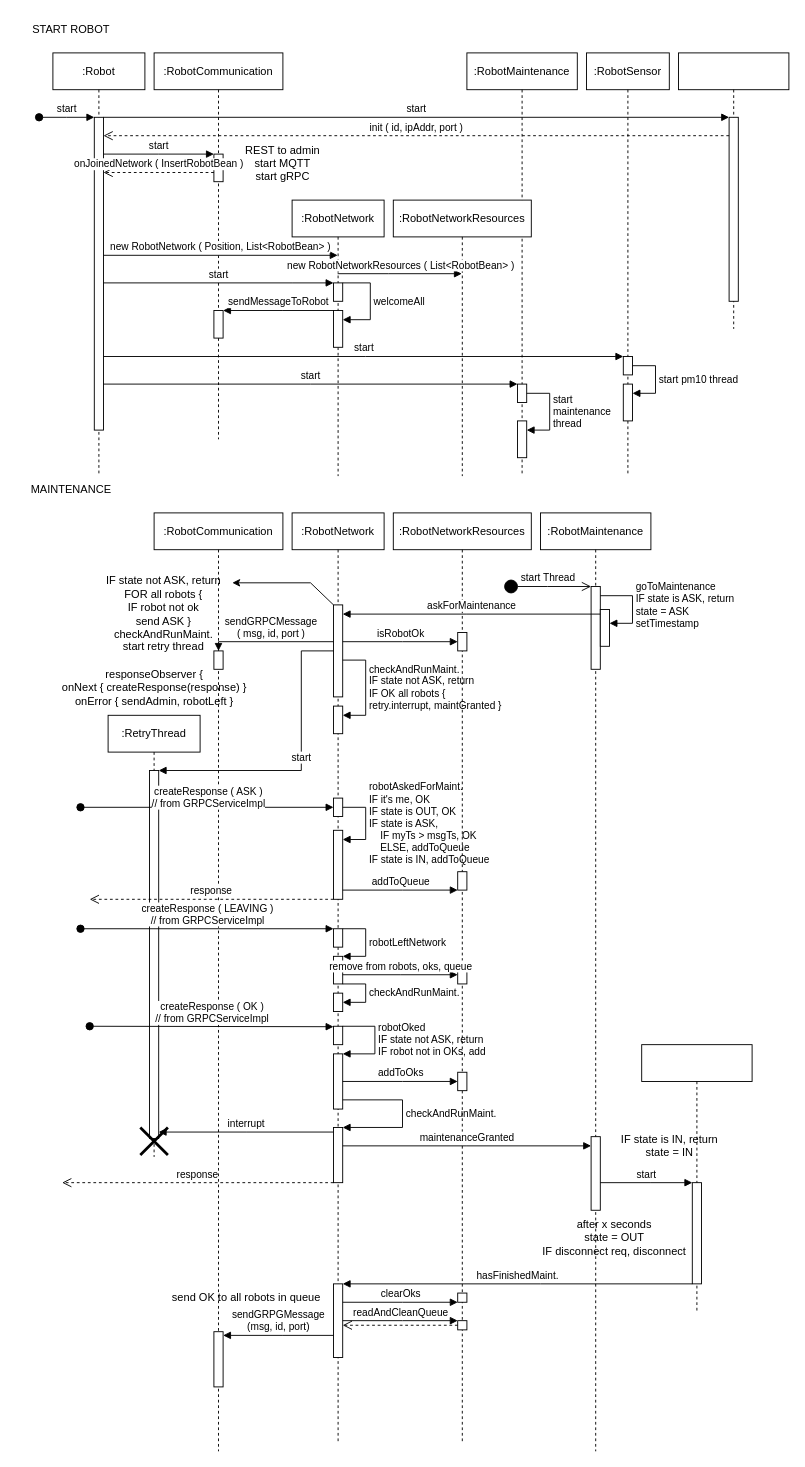
Image size: 805x1467. Some labels were removed from this diagram. Each missing label, with the box of its shape:
:MaintenanceThread: (641, 1044, 752, 1311)
:RobotInput: (678, 52, 789, 329)
